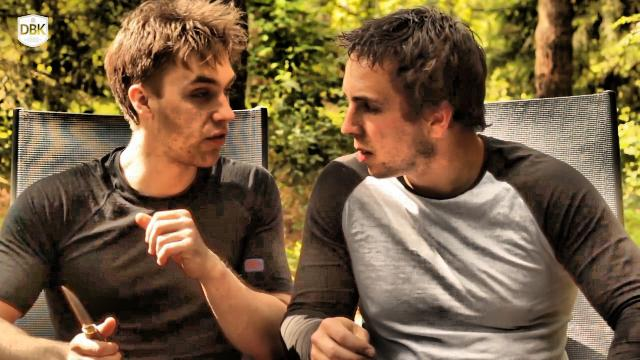knife: (52, 276, 128, 360)
